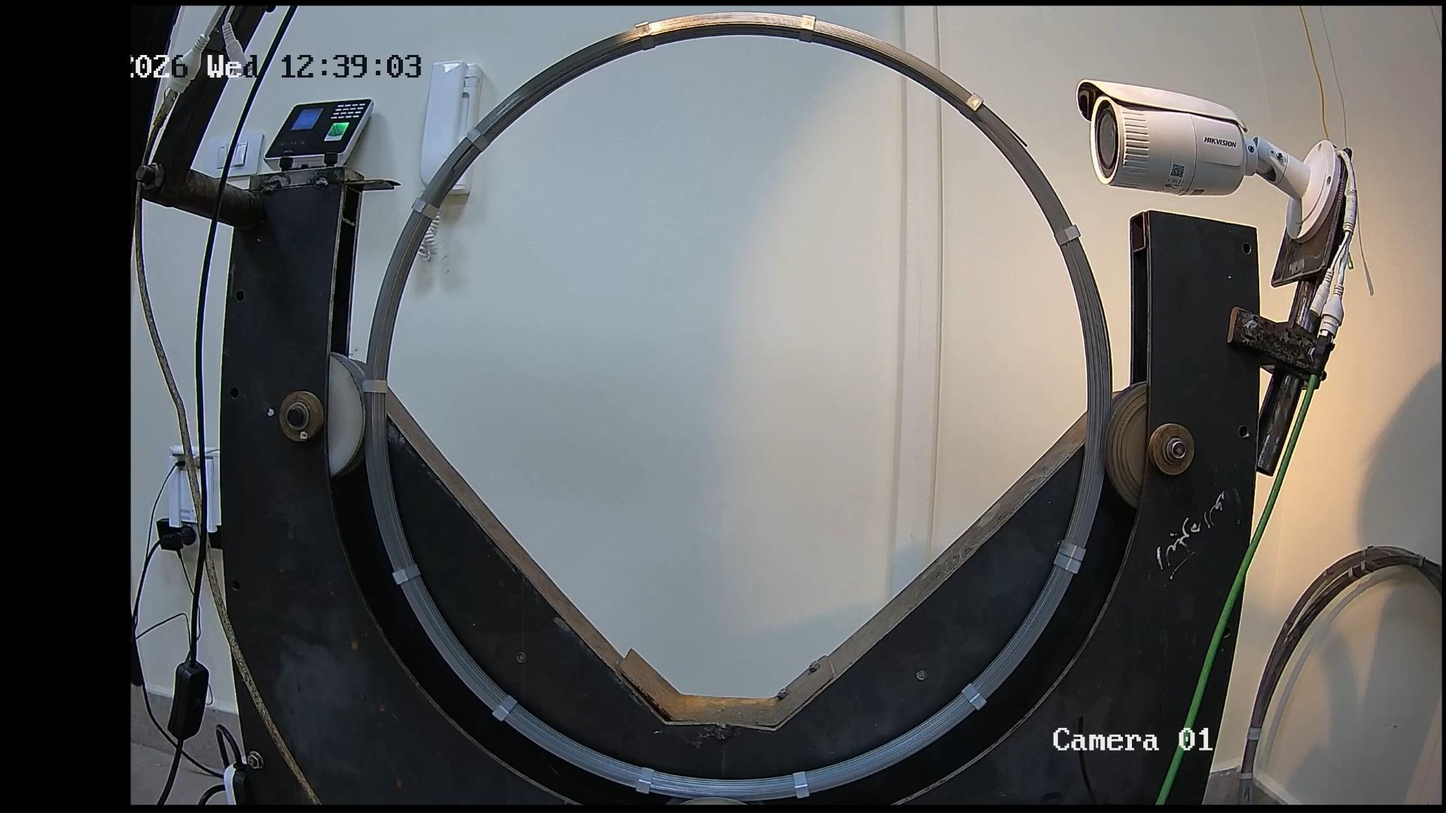Clamp: (466, 123, 490, 151), (636, 23, 660, 49), (959, 94, 983, 120), (493, 696, 516, 720), (962, 684, 985, 708), (413, 199, 439, 220), (394, 564, 419, 584), (635, 768, 654, 793), (1057, 224, 1079, 245), (1058, 543, 1085, 559), (794, 772, 809, 798), (800, 15, 815, 41), (1055, 556, 1078, 572), (362, 379, 387, 393)
